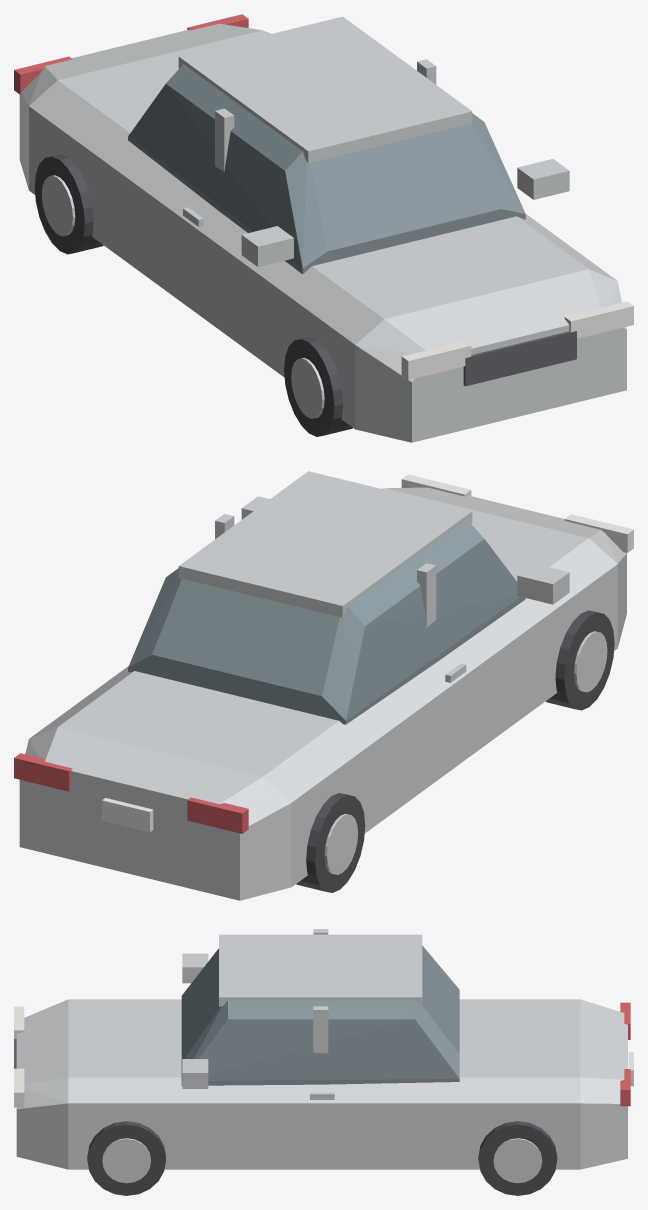
File: corolla-2000.glb
3 renders of one model, top to bottom at view 1: azimuth 30°, elevation 25°; view 2: azimuth 150°, elevation 25°; view 3: azimuth 270°, elevation 25°, orthographic. The views are drawn at different scales.
Visible parts, largest first — view 1: body, cabin_glass, roof, grille, wheel_-1_-1_tire, wheel_-1_1_tire, headlight_-1, mirror_-1, mirror_1, headlight_1, wheel_-1_1_rim, wheel_-1_-1_rim (+2 smaller); view 2: body, cabin_glass, roof, wheel_-1_1_tire, wheel_-1_-1_tire, mirror_-1, taillight_-1, wheel_-1_1_rim, wheel_-1_-1_rim, taillight_1, rear_plate, headlight_-1 (+2 smaller); view 3: body, cabin_glass, roof, wheel_1_-1_tire, wheel_1_1_tire, wheel_1_-1_rim, wheel_1_1_rim, mirror_1, pillar_1, mirror_-1, headlight_1.
Part boxes in pixels (x1,y1,x2,y2): body: (19, 23, 626, 442); cabin_glass: (128, 64, 525, 274); roof: (178, 16, 472, 162); grille: (463, 331, 576, 386); wheel_-1_-1_tire: (34, 154, 103, 254); wheel_-1_1_tire: (284, 337, 352, 436); headlight_-1: (401, 341, 471, 379); mirror_-1: (241, 226, 293, 266); mirror_1: (517, 159, 569, 199); headlight_1: (564, 301, 633, 338); wheel_-1_1_rim: (291, 357, 324, 418); wheel_-1_-1_rim: (41, 175, 75, 236); body: (19, 487, 626, 900); cabin_glass: (128, 519, 525, 724); roof: (178, 471, 472, 617); wheel_-1_1_tire: (546, 610, 614, 710); wheel_-1_-1_tire: (296, 793, 365, 892); mirror_-1: (517, 563, 569, 604); taillight_-1: (187, 797, 248, 833); wheel_-1_1_rim: (574, 631, 607, 692); wheel_-1_-1_rim: (324, 814, 357, 874); taillight_1: (14, 753, 72, 791); rear_plate: (102, 798, 153, 832); headlight_-1: (564, 514, 633, 552); body: (16, 999, 627, 1169); cabin_glass: (181, 945, 459, 1085); roof: (219, 934, 422, 1006); wheel_1_-1_tire: (478, 1121, 557, 1195); wheel_1_1_tire: (87, 1121, 165, 1195); wheel_1_-1_rim: (493, 1138, 542, 1183); wheel_1_1_rim: (102, 1138, 150, 1183); mirror_1: (182, 1059, 208, 1088); pillar_1: (313, 1006, 328, 1053); mirror_-1: (182, 953, 208, 983); headlight_1: (14, 1068, 24, 1107).
Size of the model in its own units: 2.08 by 1.43 by 4.57.
